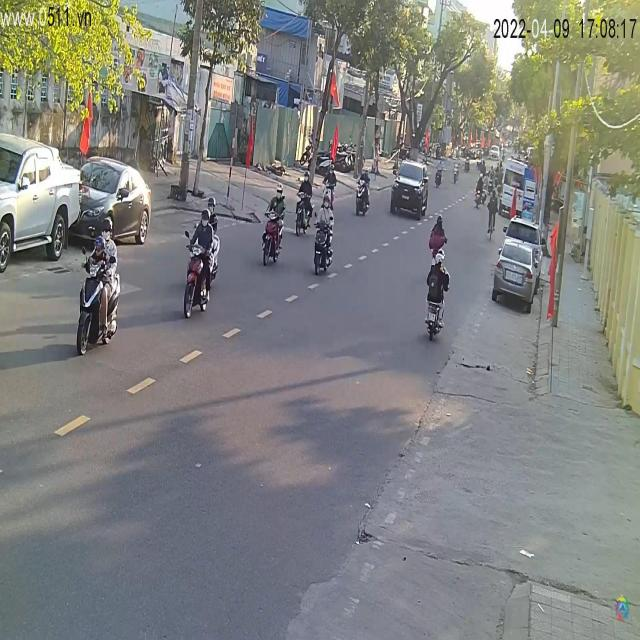car: (1, 132, 83, 279), (76, 158, 154, 248), (491, 232, 540, 316), (390, 159, 429, 216)
motorcycle: (74, 236, 123, 354), (182, 233, 217, 324), (311, 222, 334, 275), (295, 184, 315, 237), (261, 219, 283, 267), (424, 300, 445, 341), (358, 174, 372, 217)
